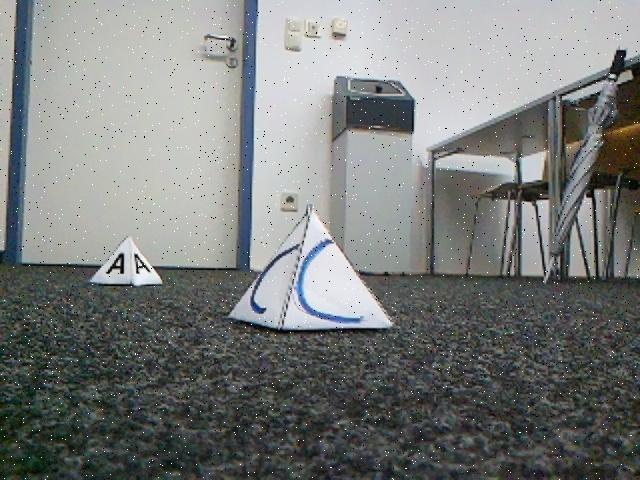A: (94, 238, 162, 288)
C: (230, 206, 391, 333)
